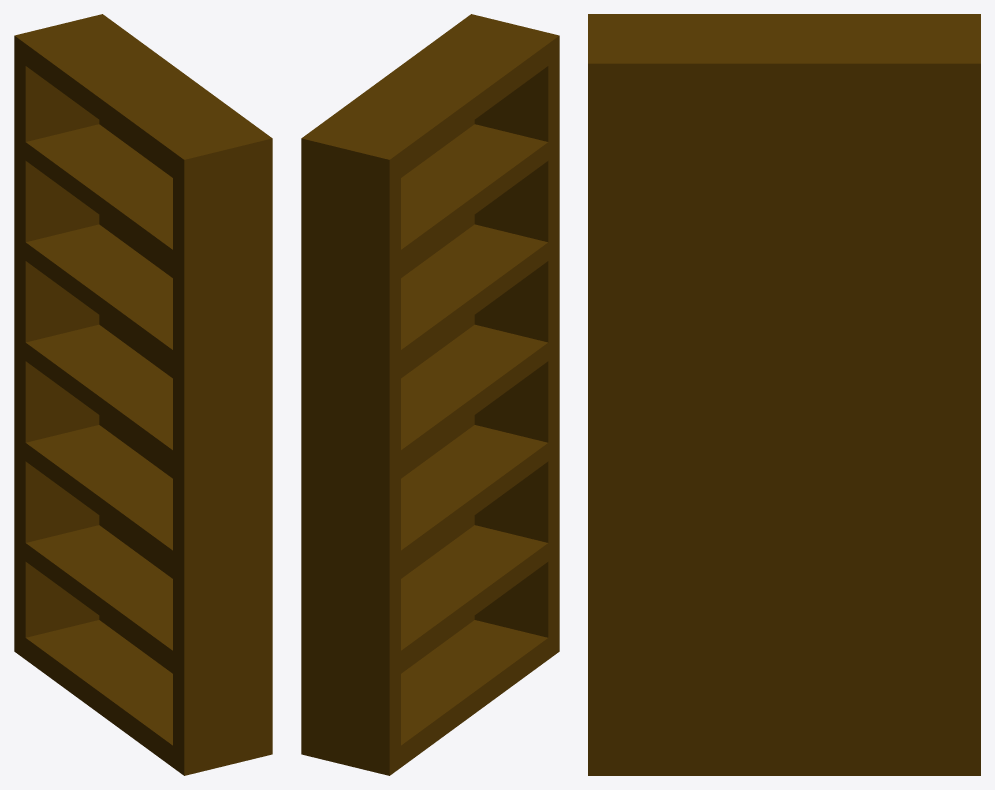
Rendered from bookCase.fbx.
3 renders of one model, left to right at view 1: azimuth 30°, elevation 25°; view 2: azimuth 150°, elevation 25°; view 3: azimuth 270°, elevation 25°, orthographic. The views are drawn at different scales.
Parts seen in each view (by area): view 1: bookCase; view 2: bookCase; view 3: bookCase.
Part boxes in pixels (x1,y1,x2,y2): bookCase: (14, 14, 272, 775); bookCase: (301, 14, 559, 775); bookCase: (588, 14, 980, 775).
Bounding box in the file's own units: 30 × 200 × 100.
